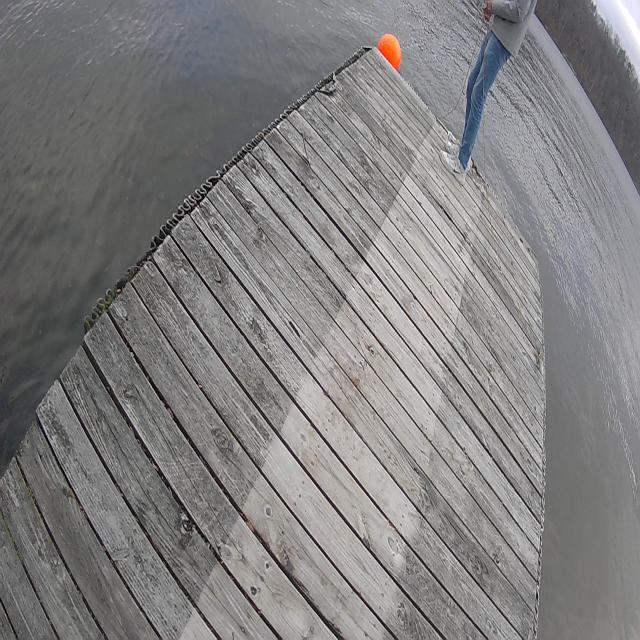Buoy: (375, 26, 403, 83)
